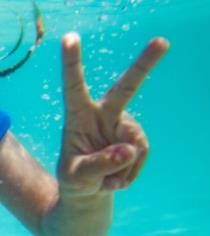front: (55, 31, 175, 205)
